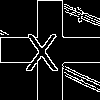X: (25, 25, 58, 71)
